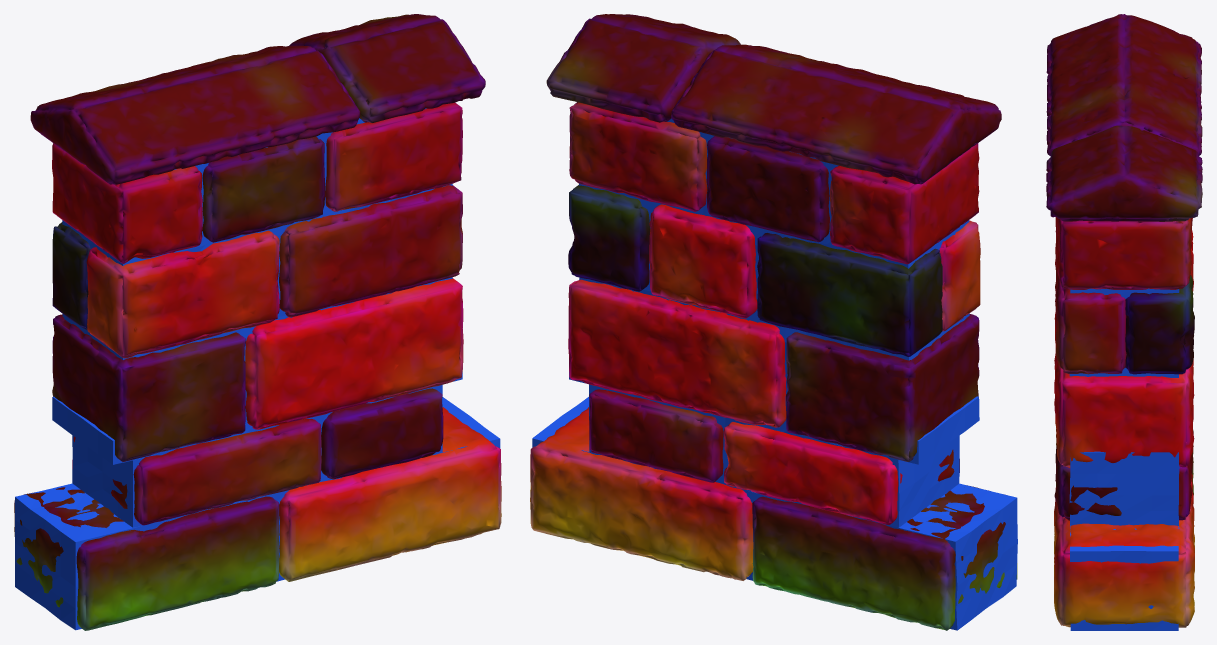
Rendered from SM_Merlon488_B.fbx.
3 views of the same model, side by side, from view 1: azimuth 30°, elevation 25°; view 2: azimuth 150°, elevation 25°; view 3: azimuth 270°, elevation 25° (orthographic). The views are drawn at different scales.
Visible parts, largest first — view 1: SM_Merlon488_B; view 2: SM_Merlon488_B; view 3: SM_Merlon488_B.
Part boxes in pixels (left/top/right/bottom): SM_Merlon488_B: left=14, top=14, right=501, bottom=630; SM_Merlon488_B: left=530, top=14, right=1017, bottom=630; SM_Merlon488_B: left=1046, top=14, right=1202, bottom=630.
Size of the model in its own units: 172 by 190 by 60.38.
